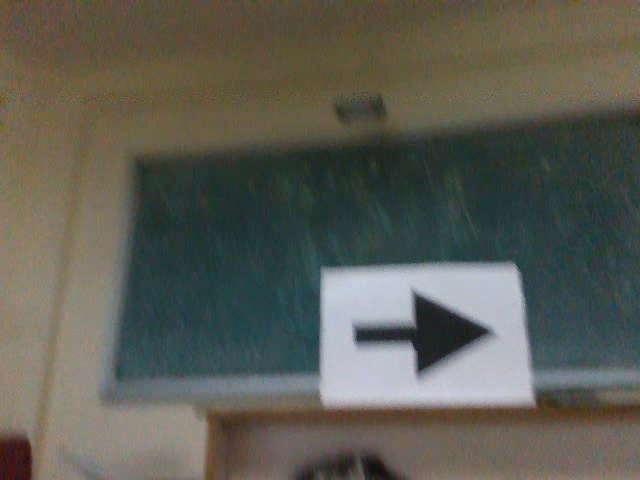Right: (344, 286, 496, 379)
